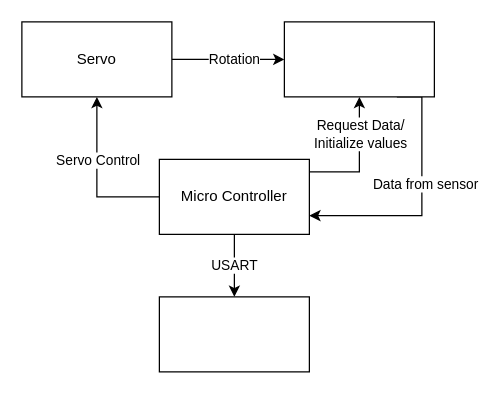
Image size: 499x394. Some labels were removed from this diagram. Each missing label, with the box of its shape:
Light Sensor: (283, 21, 434, 97)
PC: (158, 296, 309, 372)
